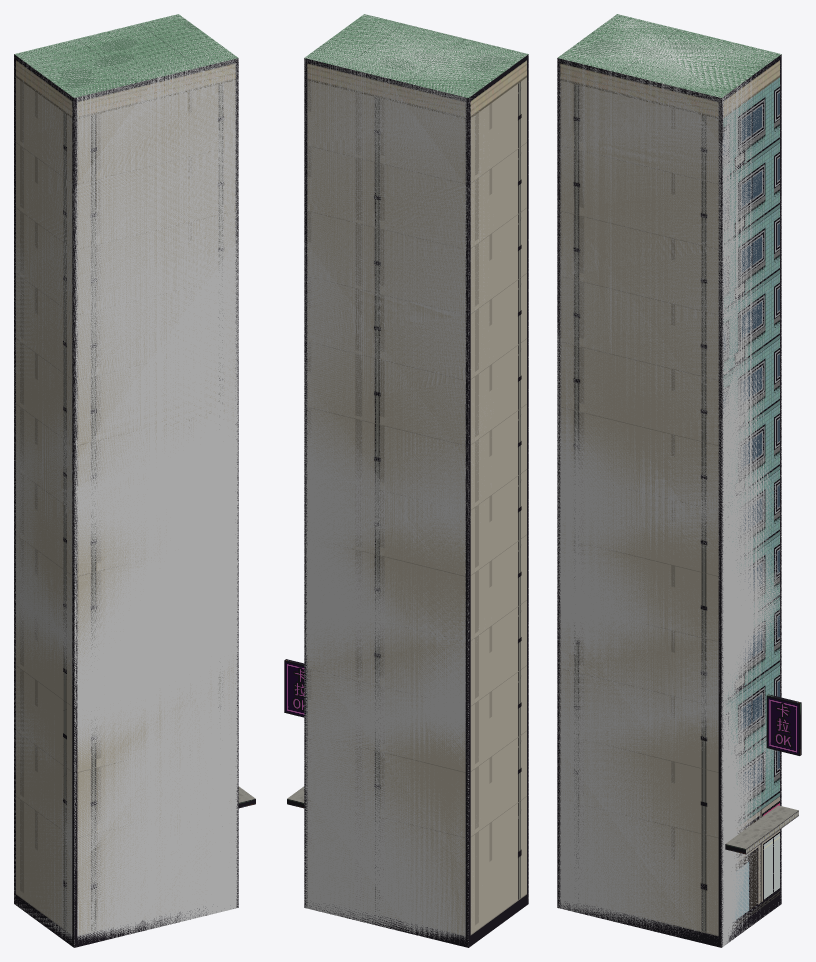
3 renders of one model, left to right at view 1: azimuth 30°, elevation 25°; view 2: azimuth 150°, elevation 25°; view 3: azimuth 330°, elevation 25°, orthographic.
Visible parts, largest first — view 1: COL_19D-E18_0, 19D-E18; view 2: 19D-E18, COL_19D-E18_0; view 3: 19D-E18, COL_19D-E18_0.
Boxes of the visible parts, left/top/right/bottom form: COL_19D-E18_0: left=14, top=14, right=238, bottom=947; 19D-E18: left=14, top=14, right=255, bottom=947; 19D-E18: left=284, top=14, right=528, bottom=947; COL_19D-E18_0: left=304, top=14, right=528, bottom=941; 19D-E18: left=557, top=14, right=801, bottom=947; COL_19D-E18_0: left=557, top=14, right=781, bottom=947.
Bounding box in the file's own units: 9.75 × 39 × 5.
1 material, 1 textured.
